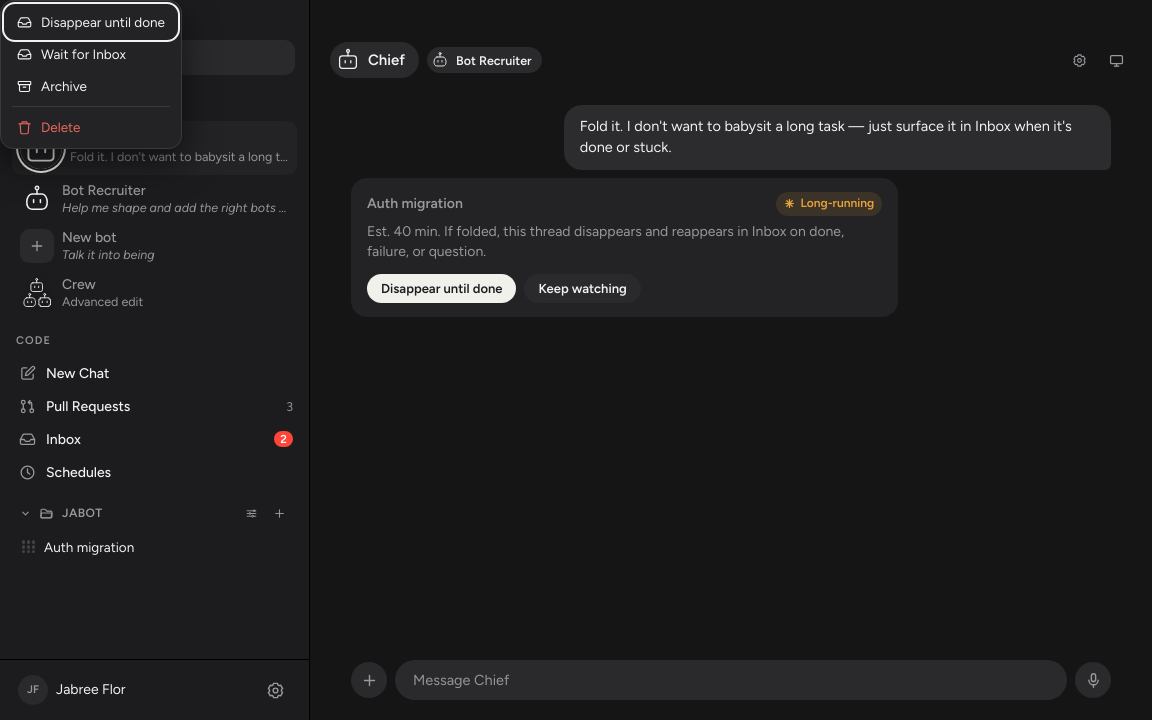
it: folding a host-owned thread › puts the row back and says why when the host refuses the fold
The width and height of the screenshot is (1152, 720).
(page scrolled)
Expected: the button named "New thread in jabot" is shown, [269, 504, 289, 524]
Click the menu item "Disappear until done". click: (91, 22)
box: [6, 6, 176, 38]
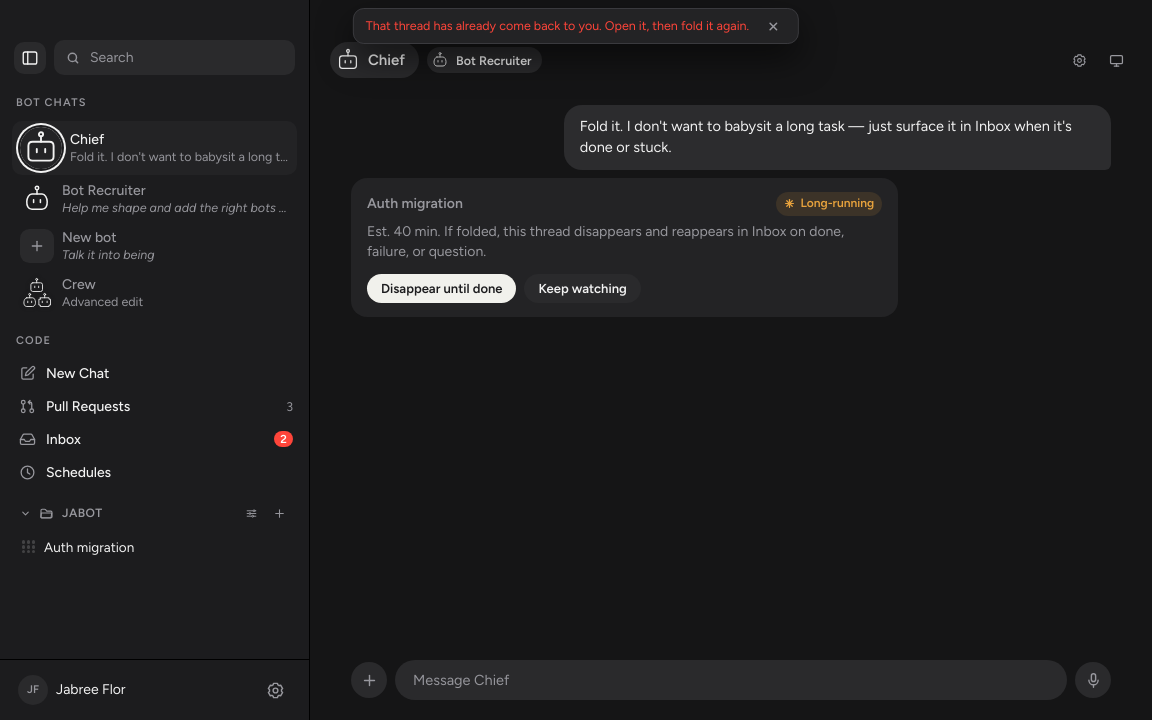
Expected: the button "Auth migration" is shown, [14, 531, 295, 563]
Expected: the message shows "That thread has already come back to you.", [366, 18, 749, 33]
